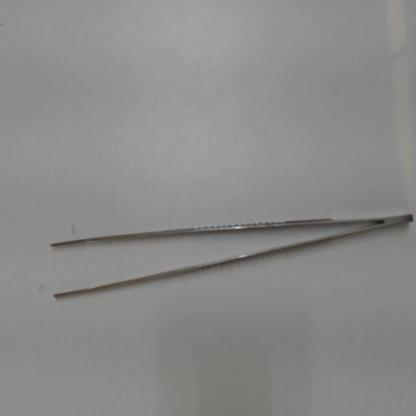DeBakey Dissector: (39, 190, 416, 312)
